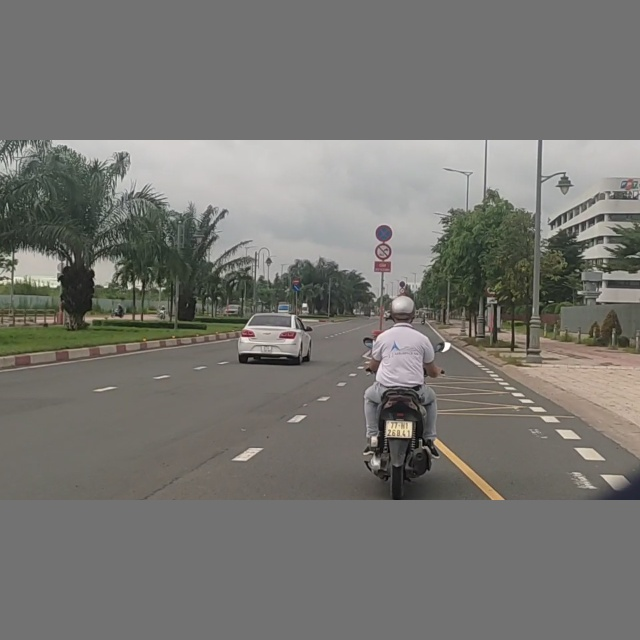P.111: (374, 243, 392, 261)
P.130: (374, 222, 393, 242)
